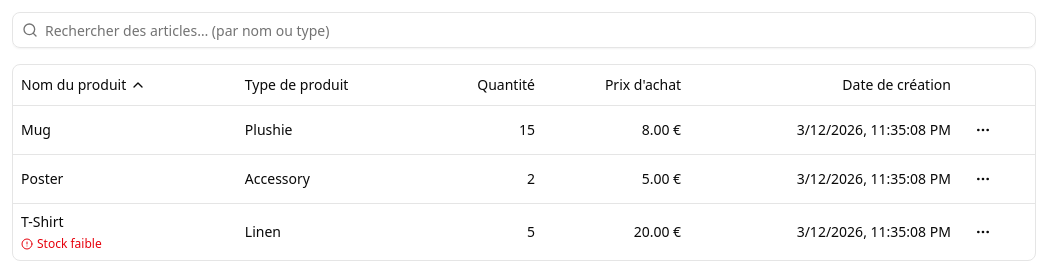
Scenario: StockTable › sorts by quantity when column header is clicked
Click the text "Quantité" at (506, 84), box [477,75,535,94]
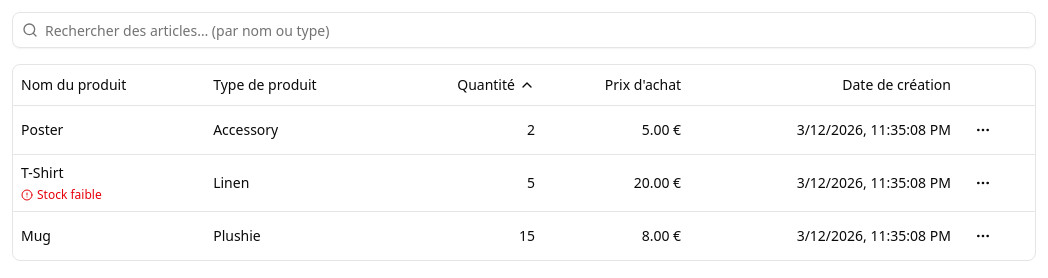
Click the text "Quantité" at (496, 84), box [457,75,535,94]
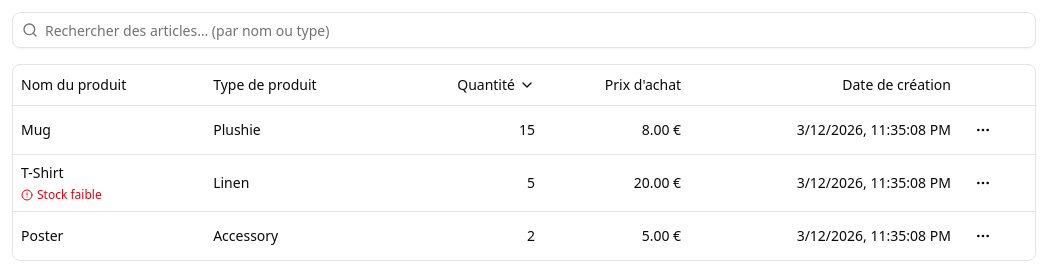
expect the row "Mug Plushie 15 8.00 € 3/12/2026, 11:35:08 PM" is shown: met, box [13,105,1035,154]
